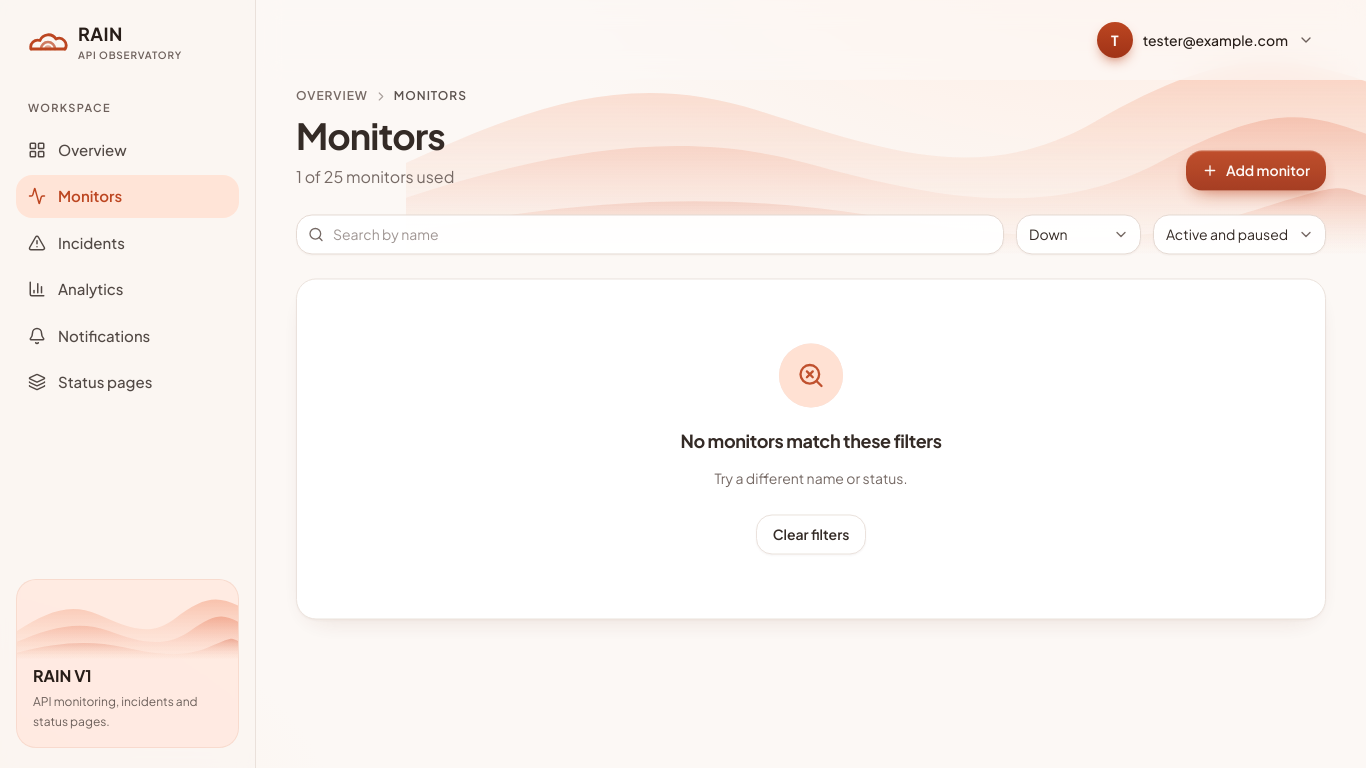
Test case: monitor registry › distinguishes "no matches" from "no monitors" and clears filters
Check: the heading "No monitors match these filters" is shown, box x1=680 y1=427 x2=942 y2=455
Click the button "Clear filters": (811,534) x1=756 y1=514 x2=866 y2=554
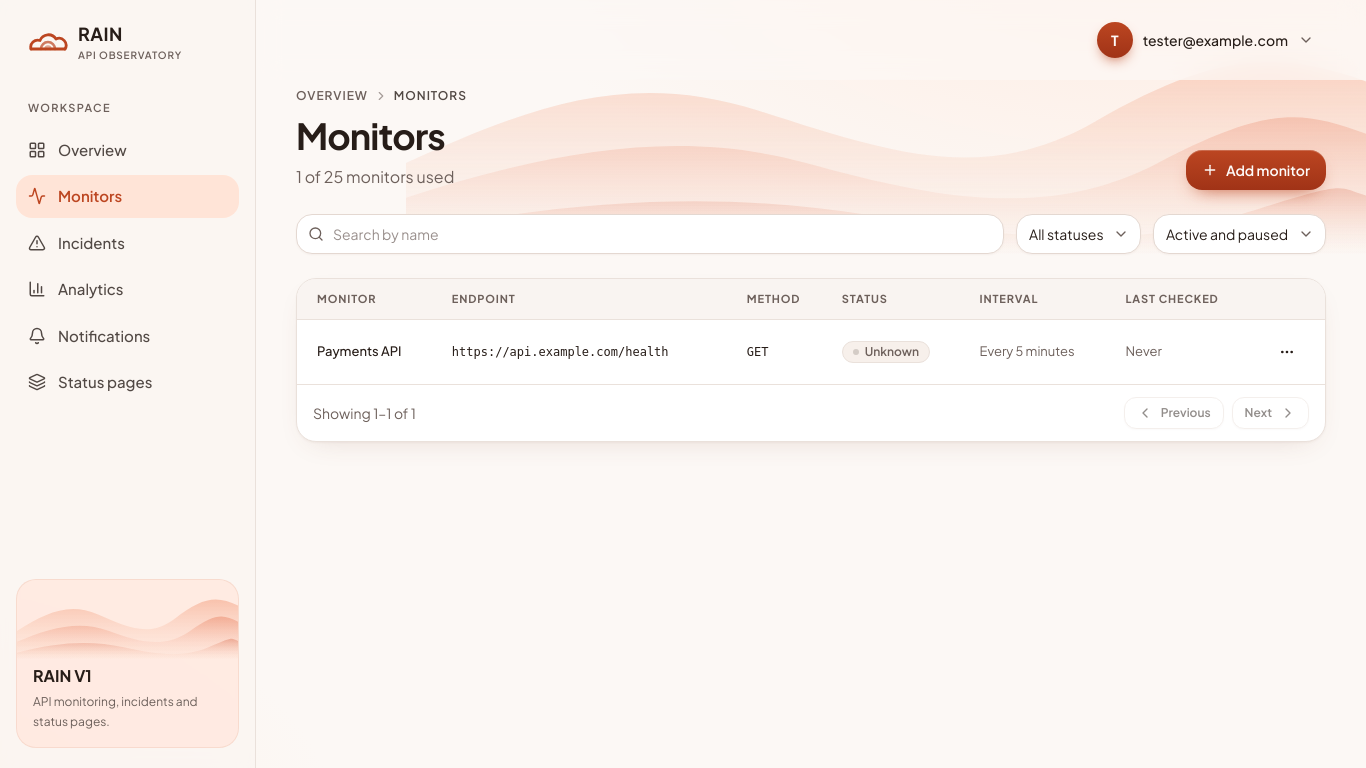
Check: the link "Payments API" is shown, box x1=317 y1=343 x2=402 y2=359
